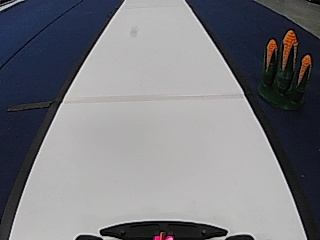corn: (256, 28, 311, 110)
